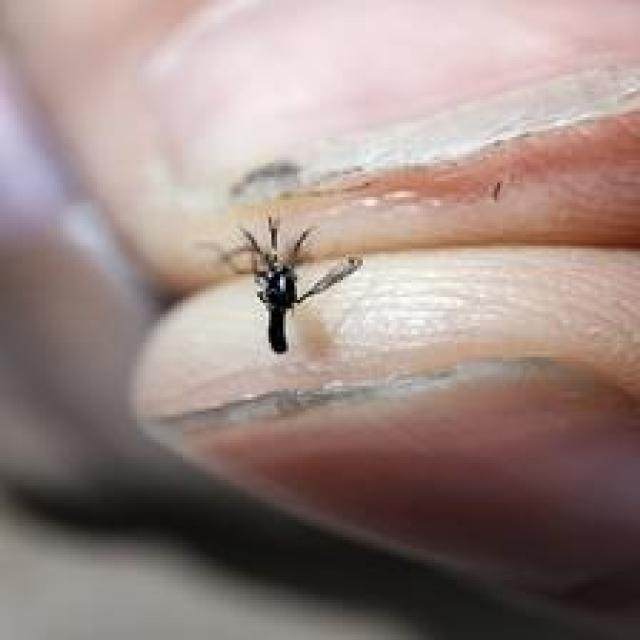Aedes albopictus: (202, 212, 364, 354)
